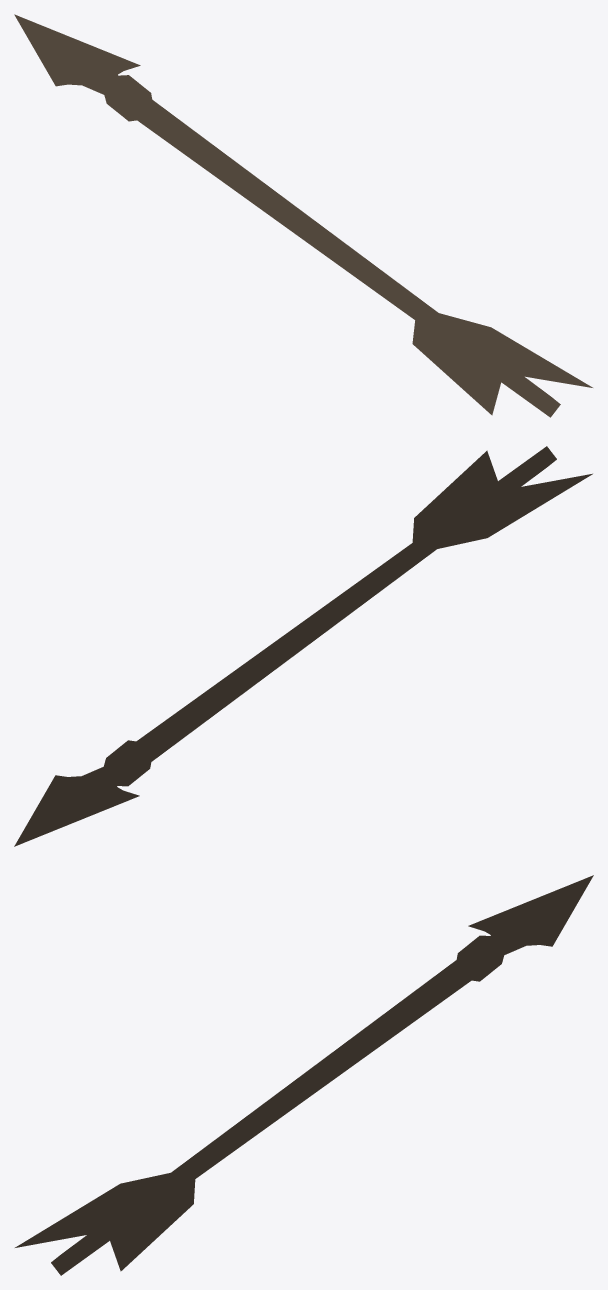
The model's file is ice-shot.glb.
3 renders of one model, top to bottom at view 1: azimuth 30°, elevation 25°; view 2: azimuth 150°, elevation 25°; view 3: azimuth 330°, elevation 25°, orthographic.
Parts seen in each view (by area): view 1: ice-shot_mesh; view 2: ice-shot_mesh; view 3: ice-shot_mesh.
Boxes of the visible parts, box(x1,y1,x2,y2) form: ice-shot_mesh: box(14, 14, 592, 417); ice-shot_mesh: box(14, 446, 592, 846); ice-shot_mesh: box(15, 875, 593, 1275).
Bounding box in the file's own units: 0.0767 × 0.0325 × 0.6806.
1 material, 1 textured.
